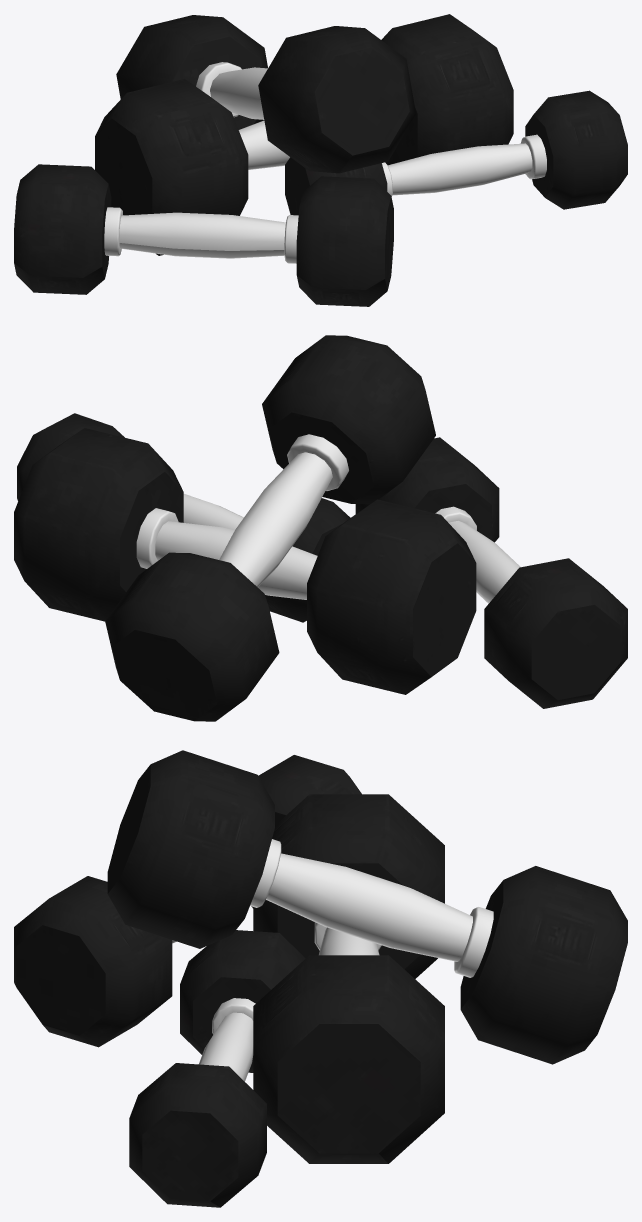
3 views of the same model, one above another, from view 1: azimuth 30°, elevation 25°; view 2: azimuth 150°, elevation 25°; view 3: azimuth 270°, elevation 25° (orthographic). The views are drawn at different scales.
Visible parts, largest first — view 1: GymWeights_phong1_0; view 2: GymWeights_phong1_0; view 3: GymWeights_phong1_0.
Boxes of the visible parts, x1,y1,x2,y2 form: GymWeights_phong1_0: [14, 14, 627, 306]; GymWeights_phong1_0: [14, 335, 627, 721]; GymWeights_phong1_0: [14, 750, 627, 1207].
Bounding box in the file's own units: 93.56 × 36.15 × 70.66.
Materials: 1 (1 with a texture image).
